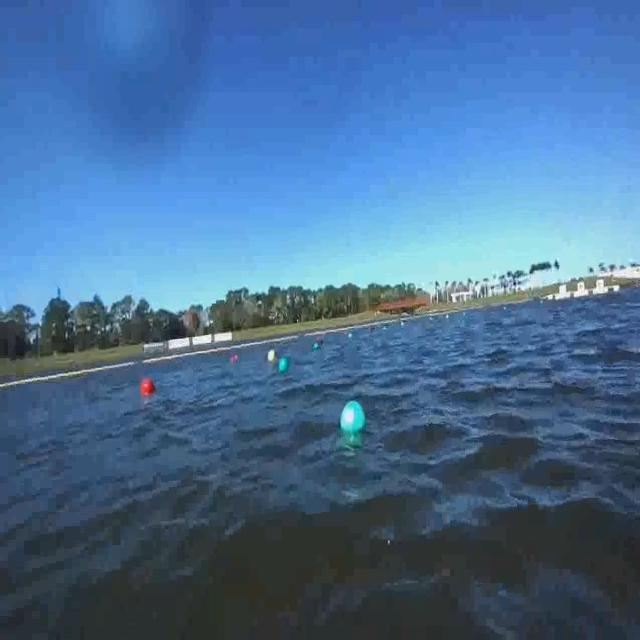green-buoy: (338, 398, 368, 436)
red-buoy: (141, 376, 156, 394)
